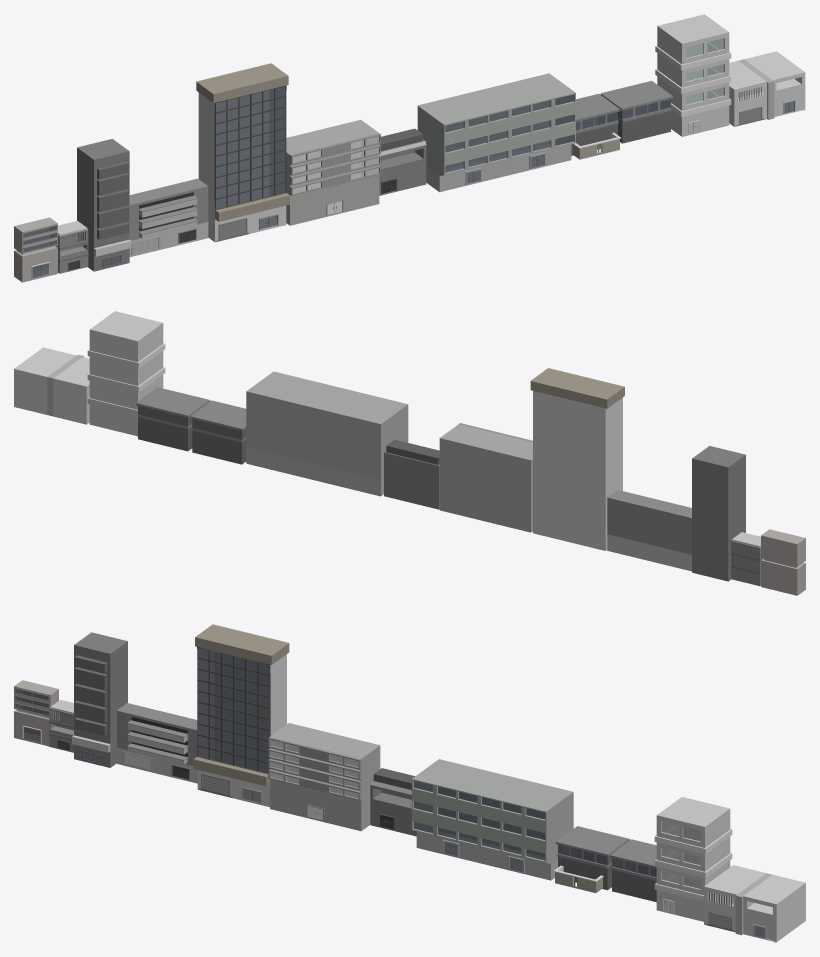
Rendered from Buildings2(Mini).glb.
3 renders of one model, top to bottom at view 1: azimuth 30°, elevation 25°; view 2: azimuth 150°, elevation 25°; view 3: azimuth 330°, elevation 25°, orthographic. The views are drawn at different scales.
Visible parts, largest first — view 1: Building23-convcol.001, Building26-convcol.001, Building24-convcol.001, Building28-convcol.001, Building21-convcol.001, Building22-convcol.001, Building27-convcol.001, Building29-convcol.001, Building25-convcol.001, Building19-convcol.001, Building20-convcol.001, Gate3-convcol.001; view 2: Building26-convcol.001, Building23-convcol.001, Building24-convcol.001, Building28-convcol.001, Building21-convcol.001, Building27-convcol.001, Building22-convcol.001, Building29-convcol.001, Building25-convcol.001, Building19-convcol.001, Building20-convcol.001; view 3: Building26-convcol.001, Building23-convcol.001, Building24-convcol.001, Building28-convcol.001, Building21-convcol.001, Building29-convcol.001, Building27-convcol.001, Building22-convcol.001, Building25-convcol.001, Building19-convcol.001, Building20-convcol.001, Gate3-convcol.001.
Boxes of the visible parts, x1,y1,x2,y2 form: Building23-convcol.001: (196,63,289,242); Building26-convcol.001: (417,73,575,192); Building24-convcol.001: (286,119,380,225); Building28-convcol.001: (655,14,731,136); Building21-convcol.001: (77,139,131,271); Building22-convcol.001: (129,178,208,257); Building27-convcol.001: (571,81,672,155); Building29-convcol.001: (729,51,805,126); Building25-convcol.001: (379,128,426,195); Building19-convcol.001: (14,217,57,282); Building20-convcol.001: (56,221,88,273); Gate3-convcol.001: (573,132,621,159); Building26-convcol.001: (246,371,408,496); Building23-convcol.001: (530,368,624,550); Building24-convcol.001: (439,423,532,532); Building28-convcol.001: (87,311,165,436); Building21-convcol.001: (692,446,745,581); Building27-convcol.001: (136,387,246,464); Building22-convcol.001: (607,490,691,571); Building29-convcol.001: (14,347,89,424); Building25-convcol.001: (384,439,439,509); Building19-convcol.001: (761,529,805,595); Building20-convcol.001: (731,532,762,586); Building26-convcol.001: (411,759,573,880); Building23-convcol.001: (193,624,289,807); Building24-convcol.001: (268,723,380,831); Building28-convcol.001: (654,797,732,921); Building21-convcol.001: (72,632,127,767); Building29-convcol.001: (704,865,805,942); Building27-convcol.001: (555,826,656,902); Building22-convcol.001: (117,703,197,783); Building25-convcol.001: (370,768,416,836); Building19-convcol.001: (14,680,58,746); Building20-convcol.001: (49,700,73,752); Gate3-convcol.001: (553,865,603,892).
Bounding box in the file's own units: 63.36 × 11.79 × 4.71.
